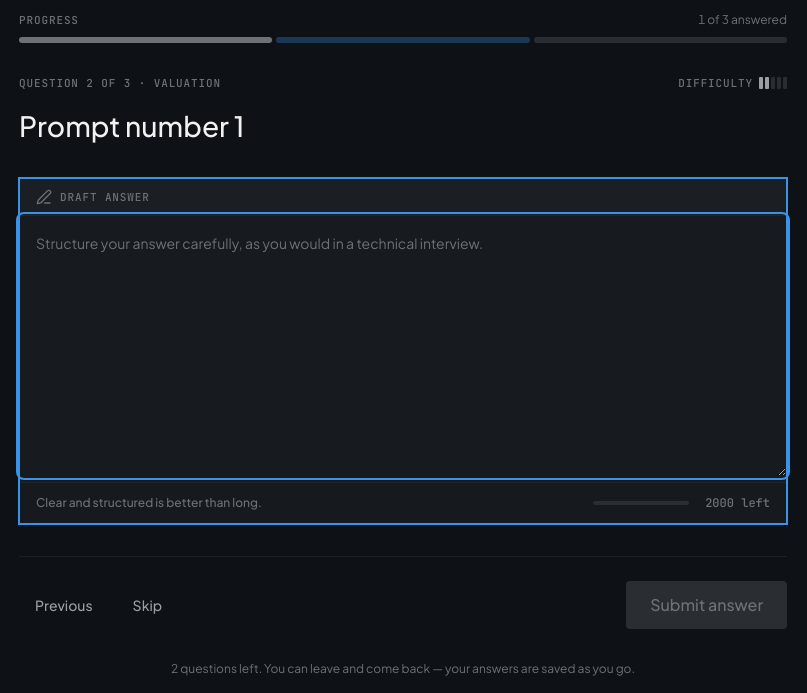
Test: DiagnosticRunner › shows an already-answered question as answered rather than editable
Click the list item named "Question 1, Valuation, answered".
click(146, 40)  # box [19,36,272,42]
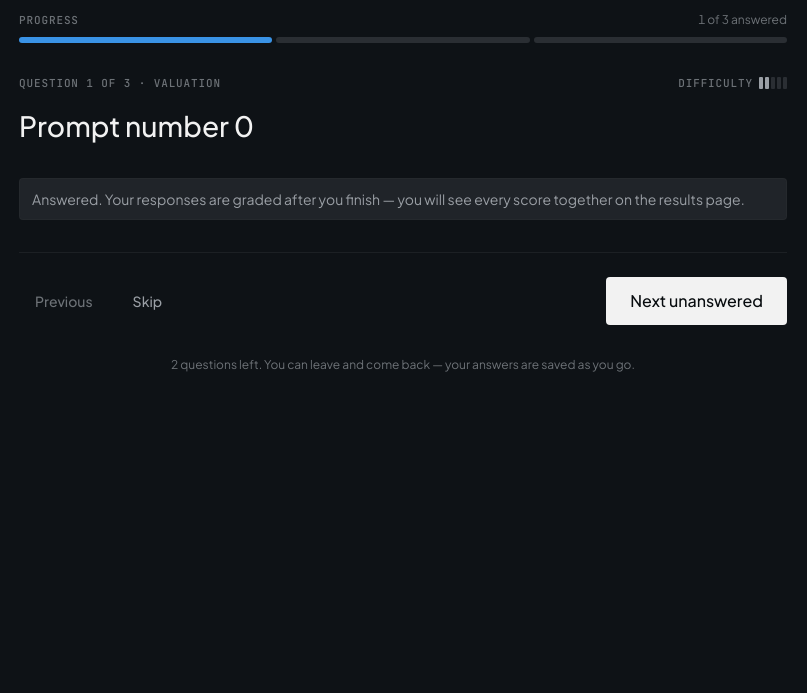
Expected: the heading "Prompt number 0" is shown, [19,108,254,143]
Expected: the text "graded after you finish" is shown, [32,190,745,208]
